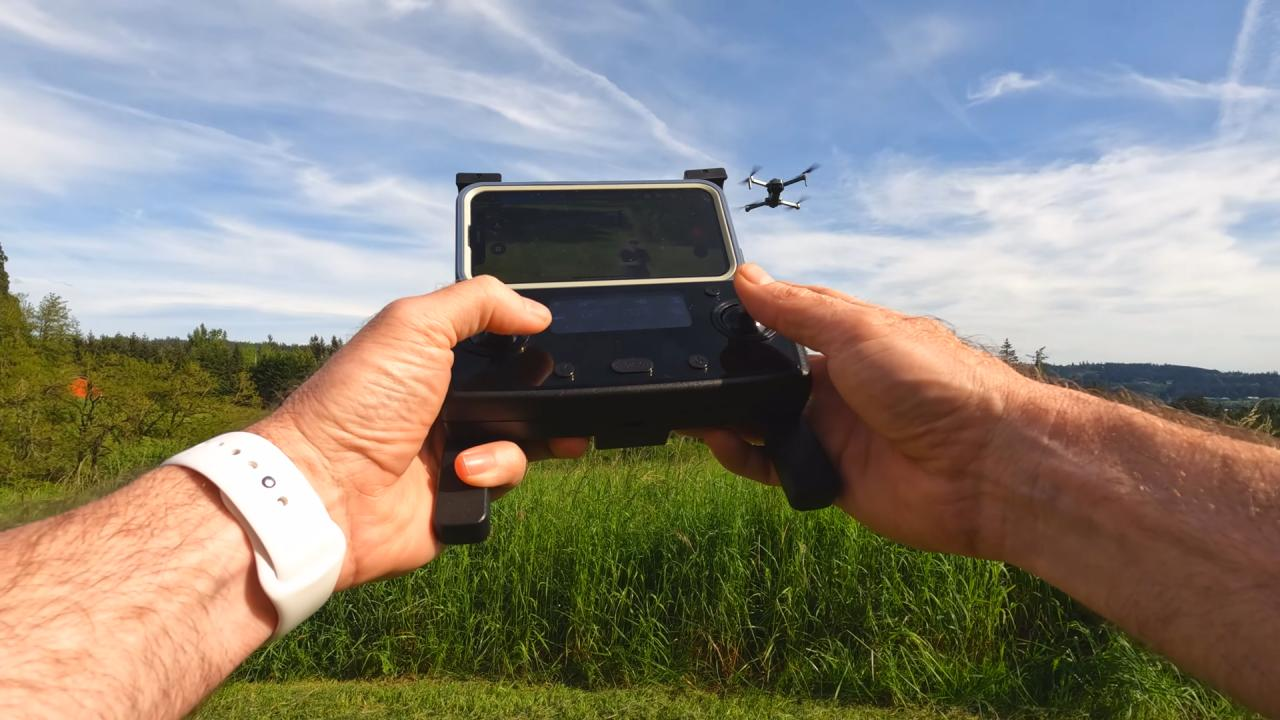Drone: (727, 154, 826, 223)
